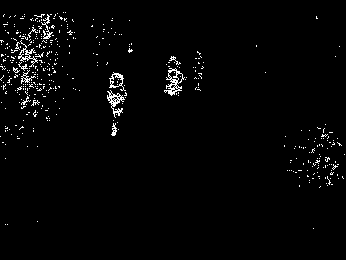person: (106, 69, 129, 141)
